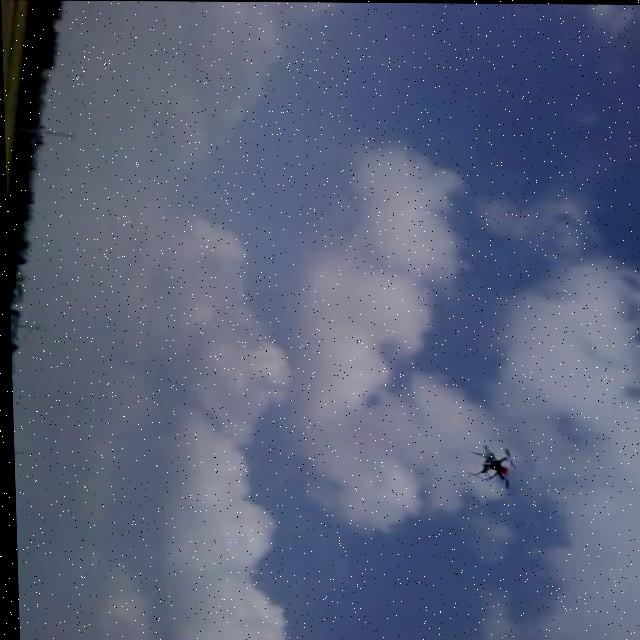drone: (461, 445, 517, 492)
